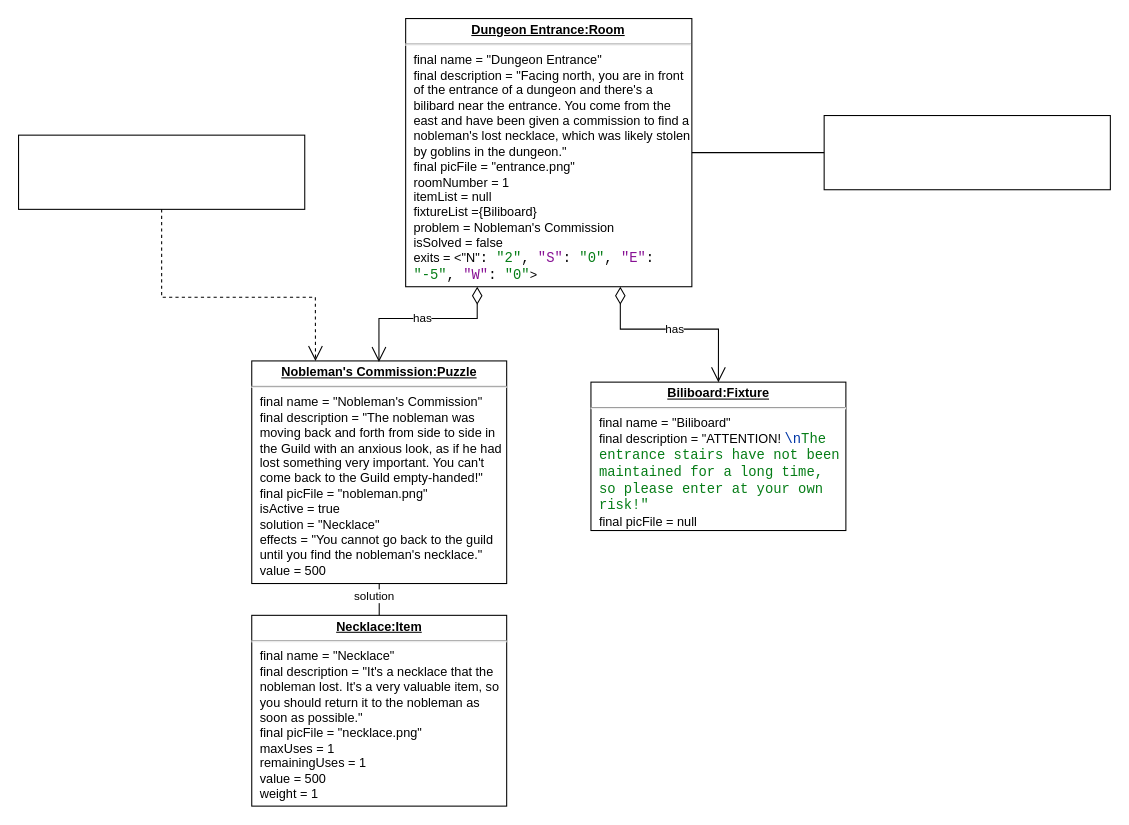
This 1129x825 diagram has some shape labels left out. The shapes that lost their labels are listed below. From the top down, each one's box as (x1, y1, x2, y2) in pixels, then its label:
(17, 134, 305, 209): Guild:Room final name = "Guild" roomNumber = 5
(823, 114, 1110, 190): First Layer:Room final name = "First Layer" roomNumber = 2
